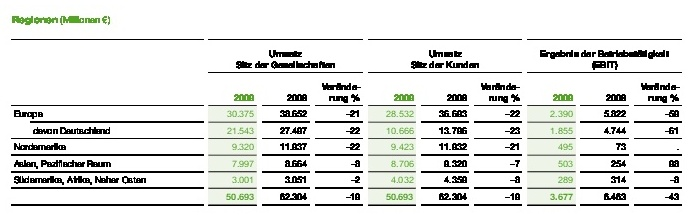table: (0, 0, 693, 215)
